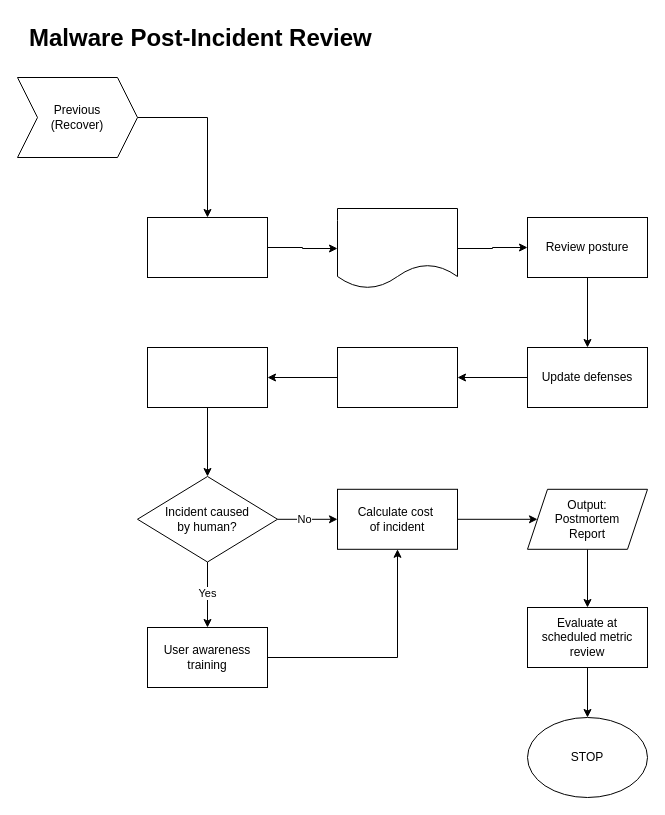
The diagram is 665 pixels wide and 815 high, and some of its shapes have lost their labels. Each missing label, with the centre of its shape:
Build new detections: point (397, 377)
Incident Review: point (207, 247)
Modify base image: point (207, 377)
Update procedures: point (397, 248)
